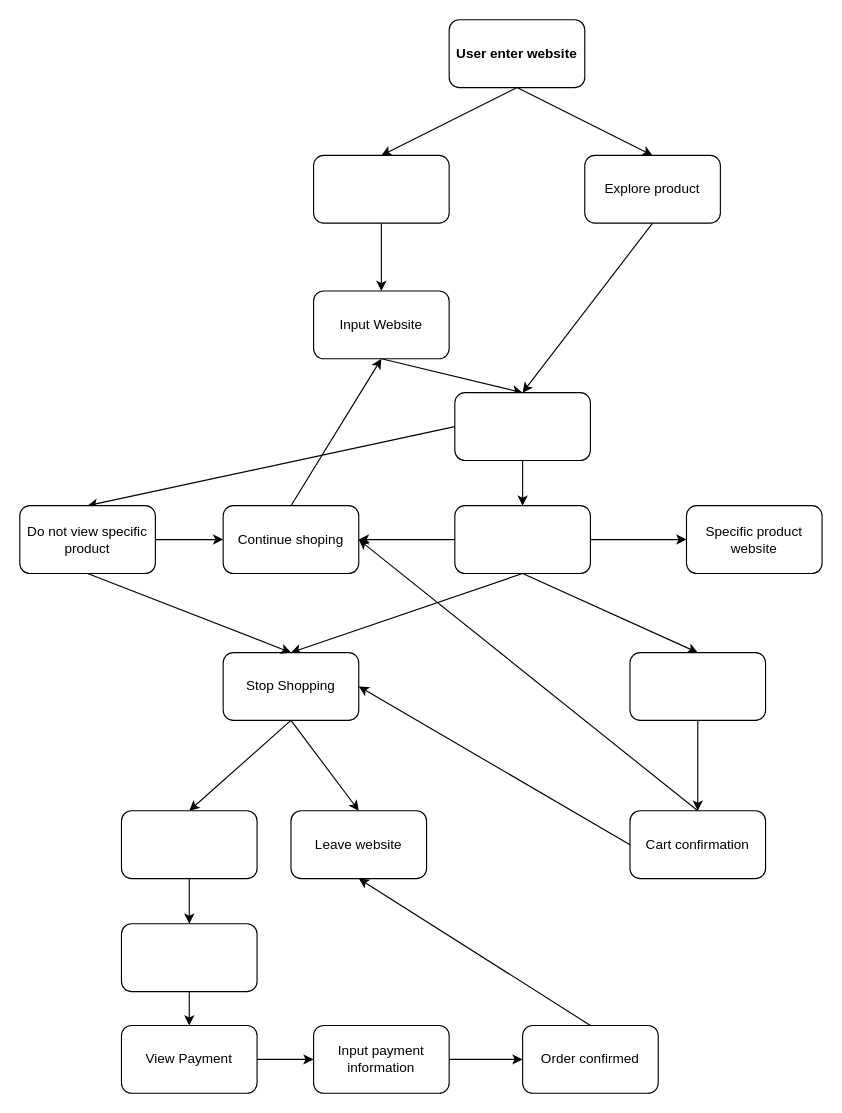
Some shapes in this 842 by 1113 pixel diagram are drawn without their labels. The shapes that lost their labels are listed below. From the top down, each one's centre as x and y in pixels, then its label:
At point (380, 188): "Search product".
At point (522, 426): "Looking over Products".
At point (522, 539): "View specific product".
At point (697, 685): "Add to cart".
At point (188, 844): "Checkout".
At point (188, 957): "View Cart".
